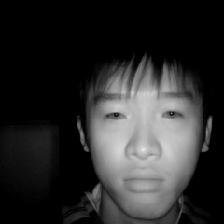normal: (74, 37, 219, 224)
